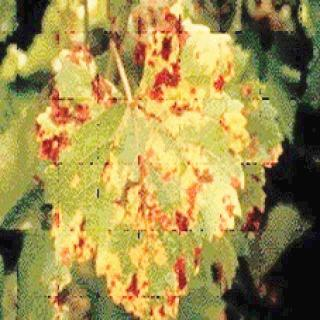grey mildew: (40, 14, 244, 320)
